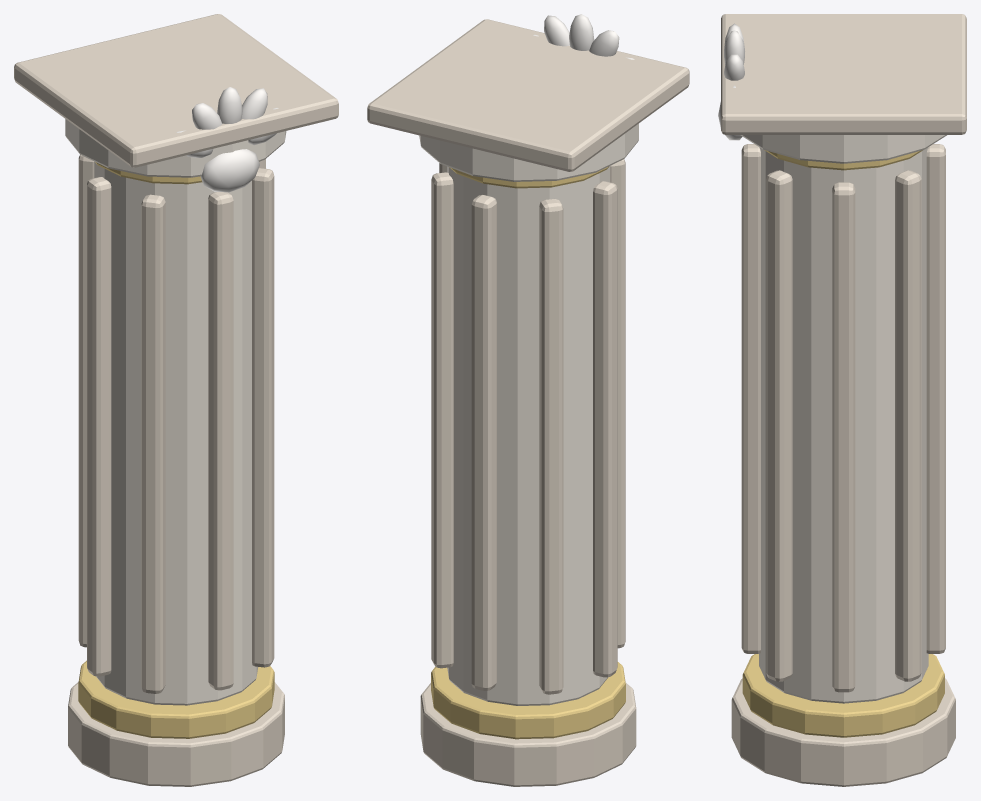
The model's file is opera_column.glb.
3 renders of one model, left to right at view 1: azimuth 30°, elevation 25°; view 2: azimuth 150°, elevation 25°; view 3: azimuth 270°, elevation 25°, orthographic. The views are drawn at different scales.
Parts seen in each view (by area): view 1: opera_column.001; view 2: opera_column.001; view 3: opera_column.001.
Part boxes in pixels (x1,y1,x2,y2): opera_column.001: (14, 14, 338, 786); opera_column.001: (367, 14, 689, 786); opera_column.001: (718, 14, 966, 786).
Bounding box in the file's own units: 4.5 × 14.34 × 4.55.
